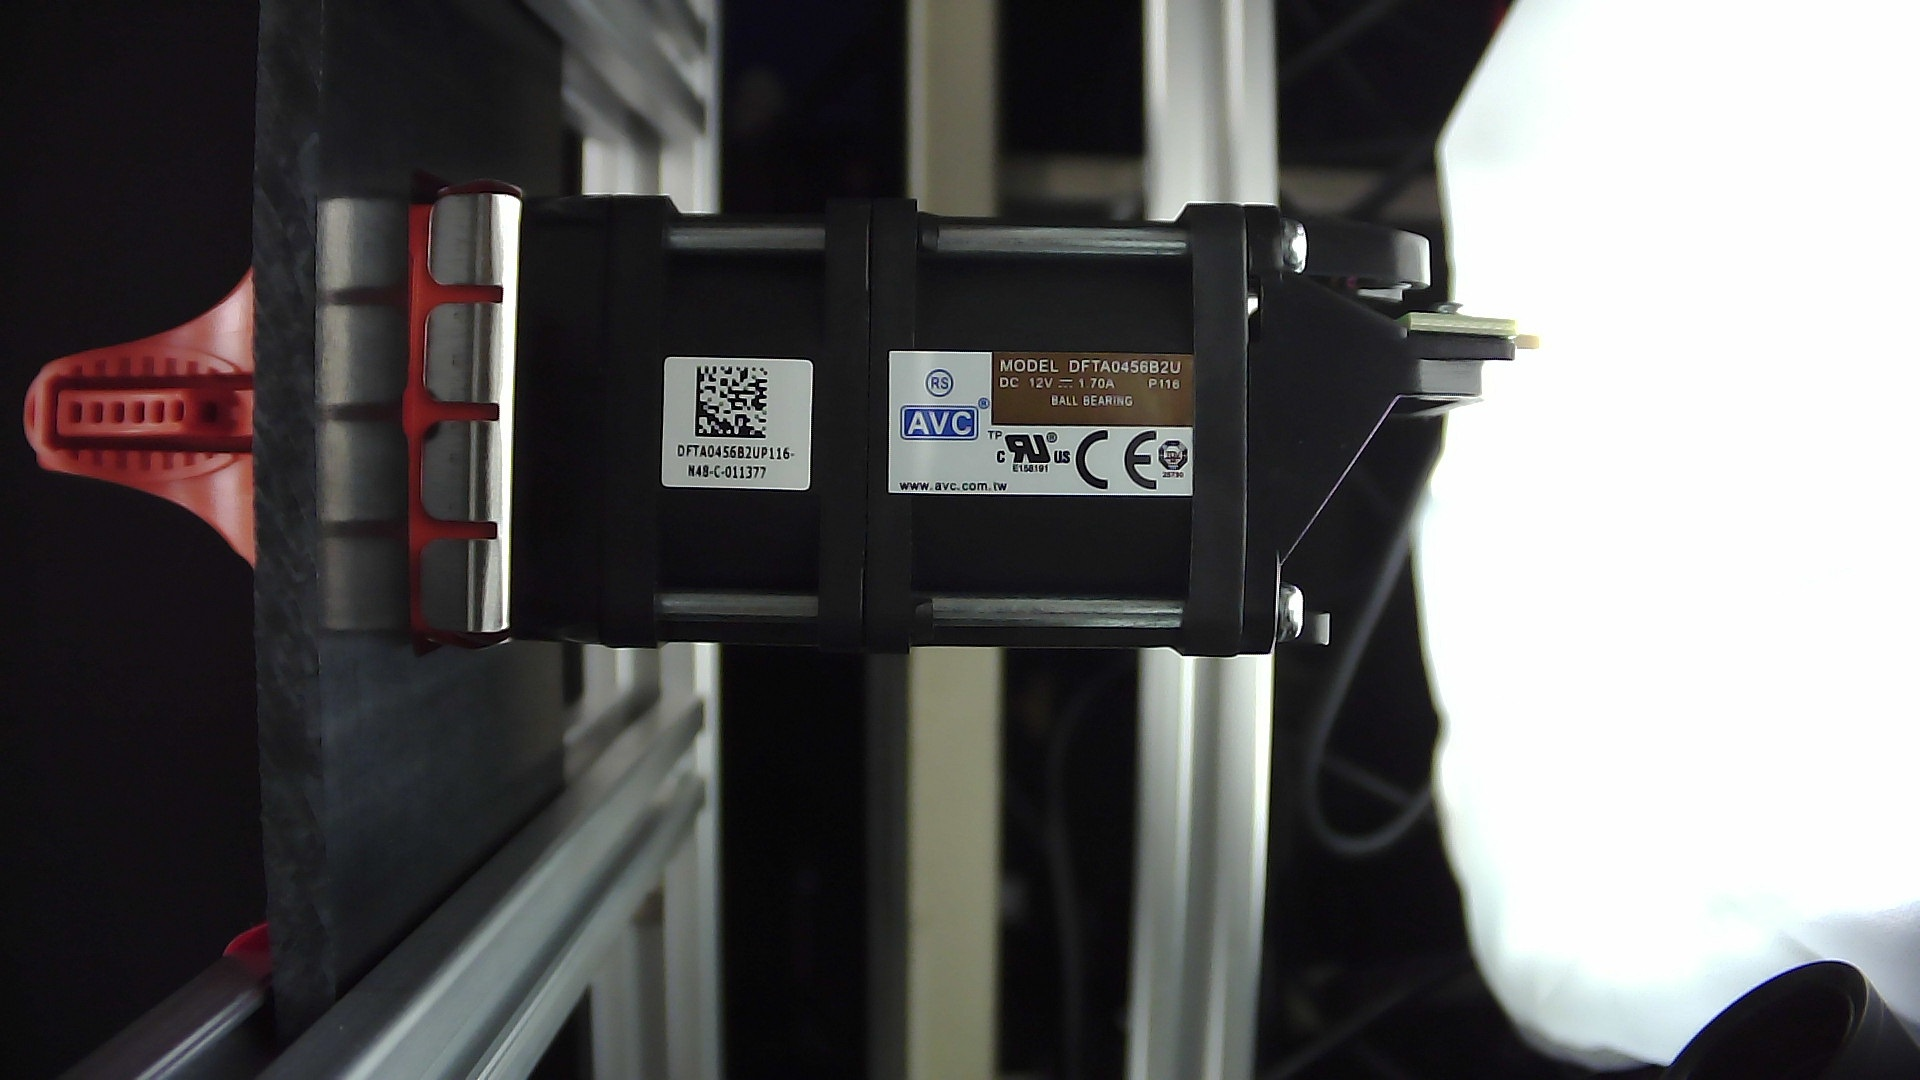6_0: (365, 131, 1582, 709)
